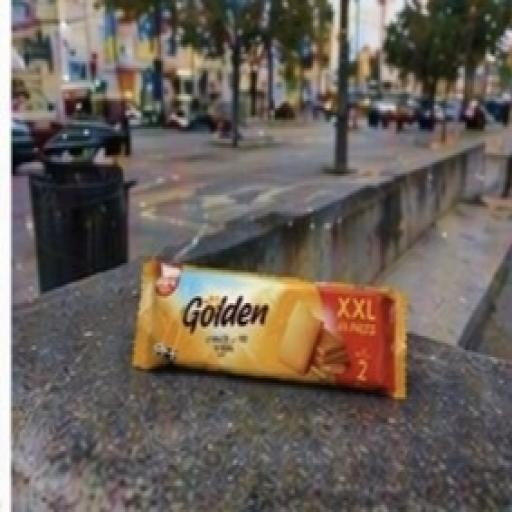golden: (116, 229, 430, 447)
